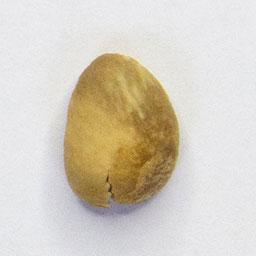defect: (60, 49, 182, 211)
